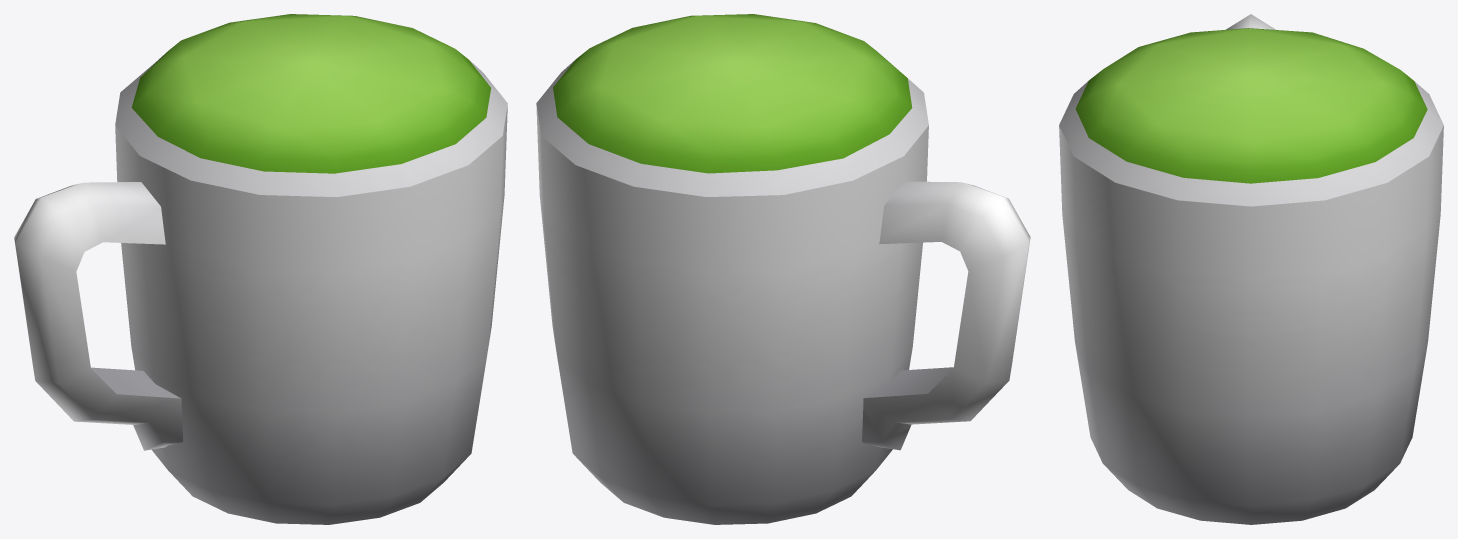
The model's file is m_Mug01_Matcha01.fbx.
3 views of the same model, side by side, from view 1: azimuth 30°, elevation 25°; view 2: azimuth 150°, elevation 25°; view 3: azimuth 270°, elevation 25° (orthographic). The views are drawn at different scales.
Visible parts, largest first — view 1: m_Mug01_Matcha01; view 2: m_Mug01_Matcha01; view 3: m_Mug01_Matcha01.
Part boxes in pixels (x1,y1,x2,y2): m_Mug01_Matcha01: [14, 14, 507, 524]; m_Mug01_Matcha01: [536, 14, 1030, 524]; m_Mug01_Matcha01: [1059, 14, 1443, 524].
Size of the model in its own units: 15.22 by 12.58 by 11.16.
